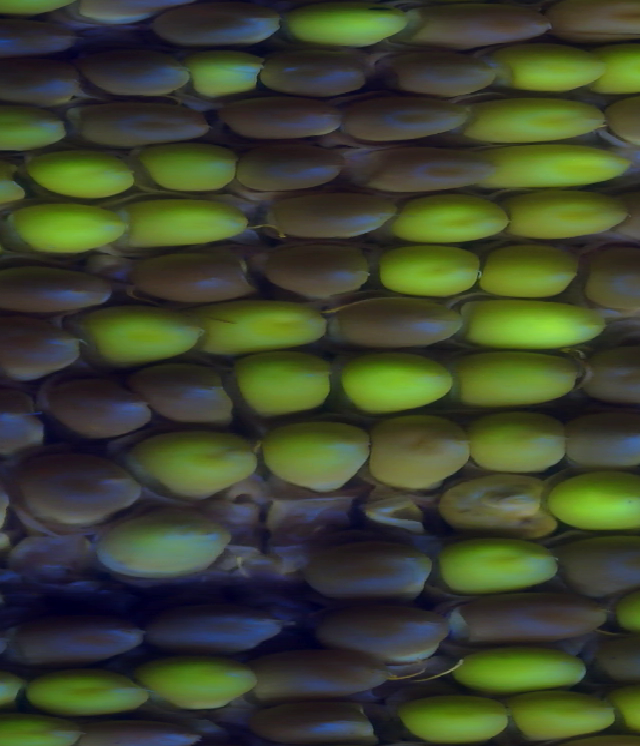fluorescent: (89, 507, 239, 578), (137, 429, 260, 502), (457, 300, 613, 353), (365, 424, 479, 494), (450, 350, 586, 407), (194, 294, 342, 346), (259, 423, 365, 494), (81, 308, 201, 368), (13, 145, 143, 200), (488, 142, 639, 189), (15, 200, 134, 258), (446, 534, 553, 597), (501, 185, 630, 236), (394, 191, 511, 247), (233, 349, 343, 408), (476, 98, 605, 147), (498, 689, 621, 740), (385, 697, 524, 742), (337, 356, 450, 411), (475, 411, 573, 473), (281, 1, 413, 47), (150, 658, 269, 708), (123, 198, 249, 245), (375, 247, 482, 302), (23, 672, 153, 717), (142, 143, 250, 197), (549, 478, 640, 539), (447, 650, 588, 687), (485, 242, 578, 295), (179, 52, 272, 102), (501, 47, 598, 88), (0, 97, 68, 153), (0, 716, 83, 746), (601, 679, 640, 740), (588, 50, 640, 92)
nonfluorescent: (310, 533, 437, 605), (315, 597, 449, 663), (255, 639, 404, 697), (256, 236, 381, 301), (330, 288, 466, 345), (18, 601, 143, 660), (20, 456, 133, 521), (446, 597, 608, 642), (44, 378, 152, 445), (68, 94, 215, 143), (342, 95, 475, 149), (255, 695, 384, 746), (149, 604, 289, 650), (126, 247, 257, 295), (139, 362, 239, 423), (260, 195, 404, 236), (0, 266, 117, 314), (82, 46, 189, 98), (410, 10, 552, 47), (357, 149, 491, 187), (0, 320, 89, 375), (233, 143, 336, 189), (159, 8, 284, 45), (221, 95, 340, 133), (262, 49, 365, 92), (547, 1, 640, 47), (553, 534, 640, 582), (575, 247, 640, 311), (563, 411, 640, 465), (582, 340, 640, 408), (379, 60, 494, 94), (0, 53, 78, 100), (0, 389, 44, 459), (86, 720, 204, 746), (0, 11, 70, 52), (598, 629, 640, 676), (0, 610, 30, 668), (605, 97, 640, 143)
